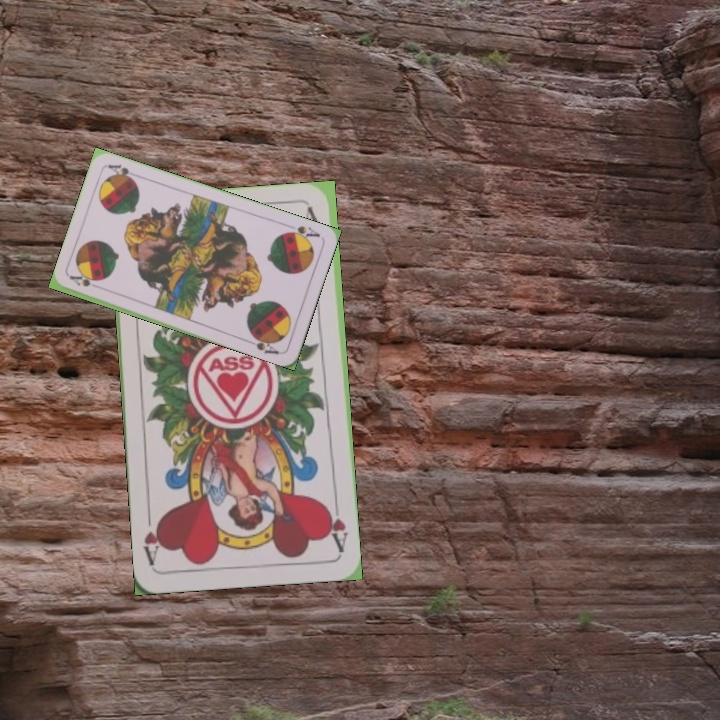HA: (322, 496, 350, 555)
SA: (281, 221, 323, 243), (66, 271, 106, 293)
